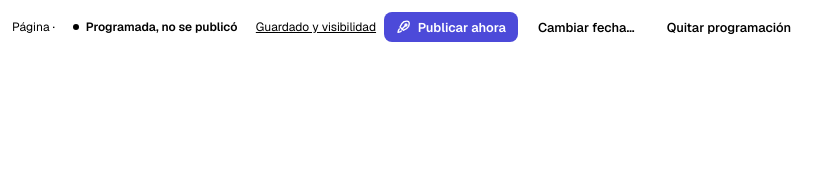
Test: VisualPublishControl.svelte — «Programar…» › programación vencida: «Publicar ahora» vacía fecha y estado en una escritura
Expected: the button "Cambiar fecha…" is shown, 526,12 -> 647,42
Expected: the button "Quitar programación" is shown, 655,12 -> 803,42
Click the button "Publicar ahora". click: click(451, 27)
box: 384,12 -> 518,42
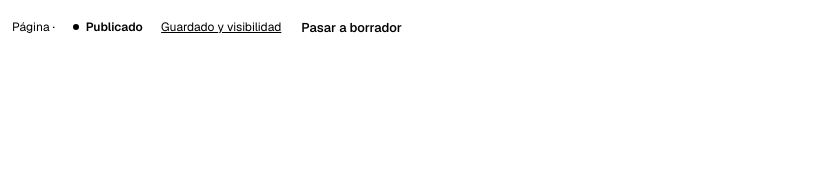
Expected: the text "Publicado" is shown, 63,15 -> 153,39
Expected: the button "Quitar programación" is gone
